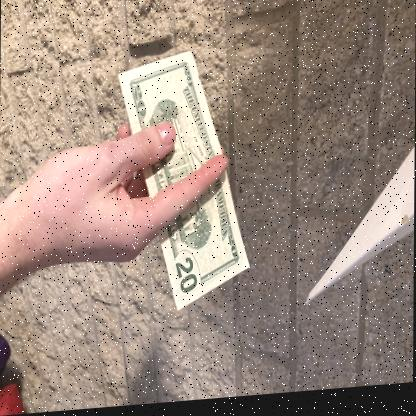twenty-back: (117, 46, 248, 311)
